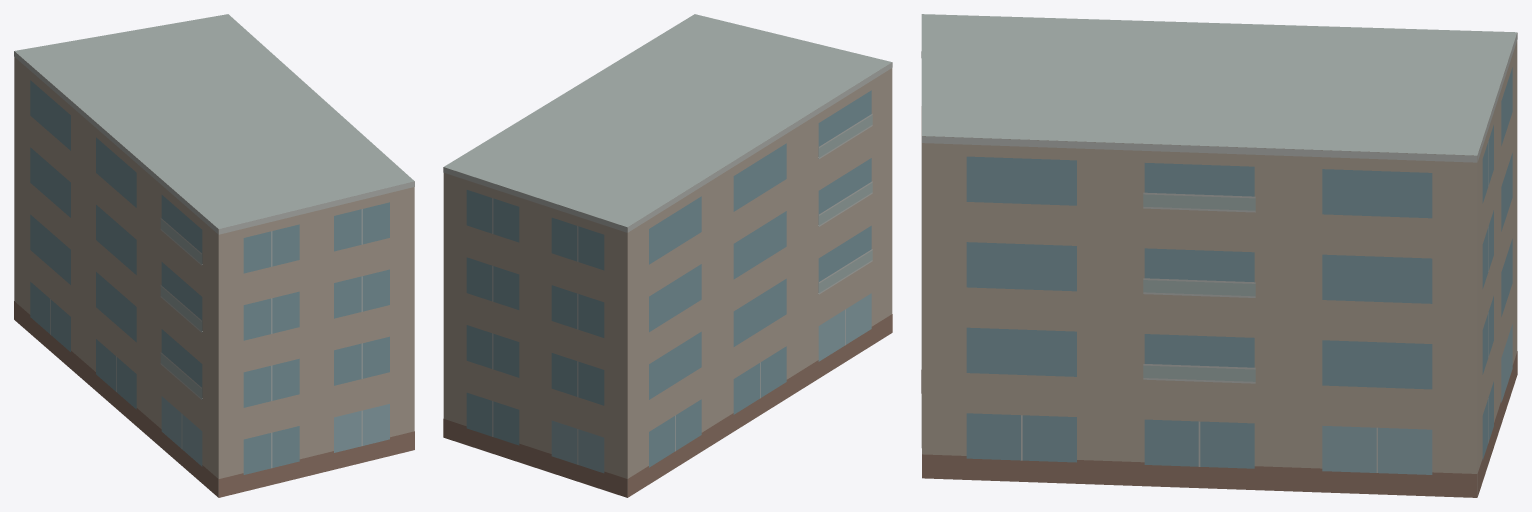
The model's file is survey-upis-32761521.glb.
3 renders of one model, left to right at view 1: azimuth 30°, elevation 25°; view 2: azimuth 150°, elevation 25°; view 3: azimuth 270°, elevation 25°, orthographic. The views are drawn at different scales.
Parts seen in each view (by area): view 1: survey-upis-32761521.tmp; view 2: survey-upis-32761521.tmp; view 3: survey-upis-32761521.tmp.
Part boxes in pixels (left/top/right/bottom): survey-upis-32761521.tmp: left=14, top=14, right=414, bottom=497; survey-upis-32761521.tmp: left=443, top=14, right=892, bottom=497; survey-upis-32761521.tmp: left=921, top=14, right=1517, bottom=497.
Bounding box in the file's own units: 10.48 × 11.8 × 18.63.
